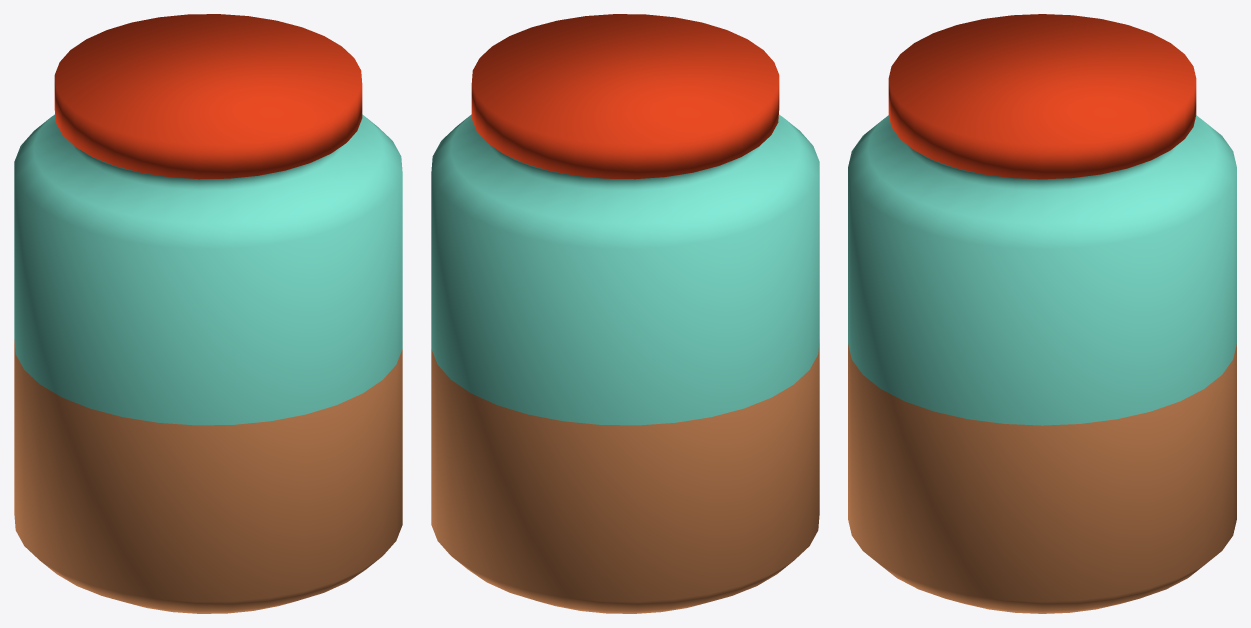
File: Honey.fbx
3 renders of one model, left to right at view 1: azimuth 30°, elevation 25°; view 2: azimuth 150°, elevation 25°; view 3: azimuth 270°, elevation 25°, orthographic.
Visible parts, largest first — view 1: Cylinder; view 2: Cylinder; view 3: Cylinder.
Boxes of the visible parts, box(x1,y1,x2,y2) form: Cylinder: box(14, 14, 402, 613); Cylinder: box(431, 14, 819, 613); Cylinder: box(848, 14, 1236, 613).
Bounding box in the file's own units: 200 × 270 × 200.
